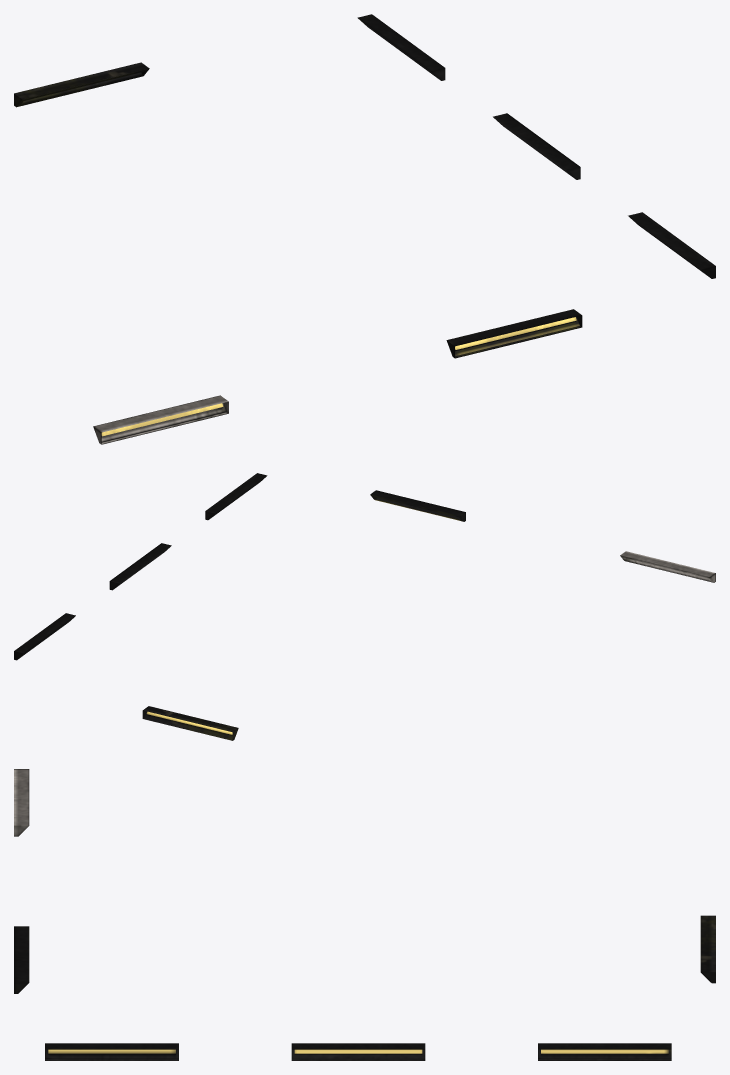
File: luzesglb.glb
The picture shows the model from 3 angles, top to bottom: view 1: azimuth 30°, elevation 25°; view 2: azimuth 150°, elevation 25°; view 3: azimuth 270°, elevation 25°; orthographic projection. The views are drawn at different scales.
Visible parts, largest first — view 1: Luzes; view 2: Luzes; view 3: Luzes.
Part boxes in pixels (left/top/right/bottom): Luzes: left=14, top=14, right=715, bottom=444; Luzes: left=14, top=473, right=715, bottom=740; Luzes: left=14, top=769, right=715, bottom=1060.
Bounding box in the file's own units: 10.76 × 0.4523 × 11.37.
1 material, 1 textured.
